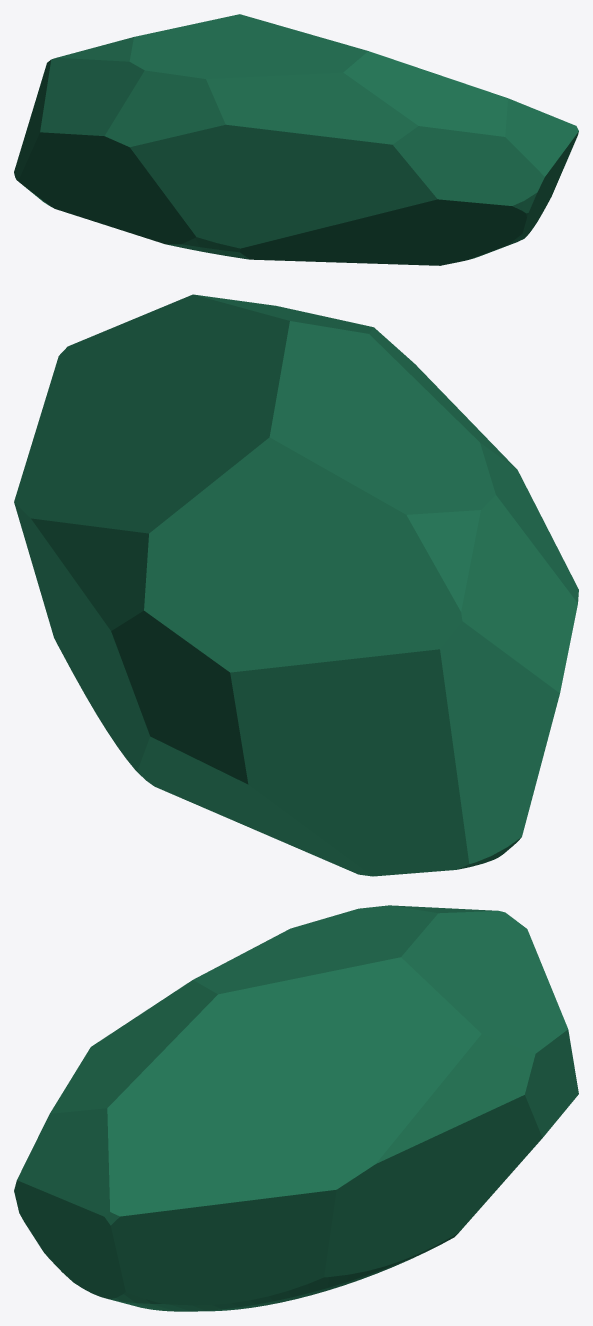
Rendered from Moita3.fbx.
3 renders of one model, top to bottom at view 1: azimuth 30°, elevation 25°; view 2: azimuth 150°, elevation 25°; view 3: azimuth 270°, elevation 25°, orthographic. The views are drawn at different scales.
Parts seen in each view (by area): view 1: Sphere.004; view 2: Sphere.004; view 3: Sphere.004.
Part boxes in pixels (bbox=[...]): Sphere.004: bbox=[14, 14, 578, 265]; Sphere.004: bbox=[14, 294, 578, 876]; Sphere.004: bbox=[14, 905, 578, 1311].
Size of the model in its own units: 530 by 251 by 486.
